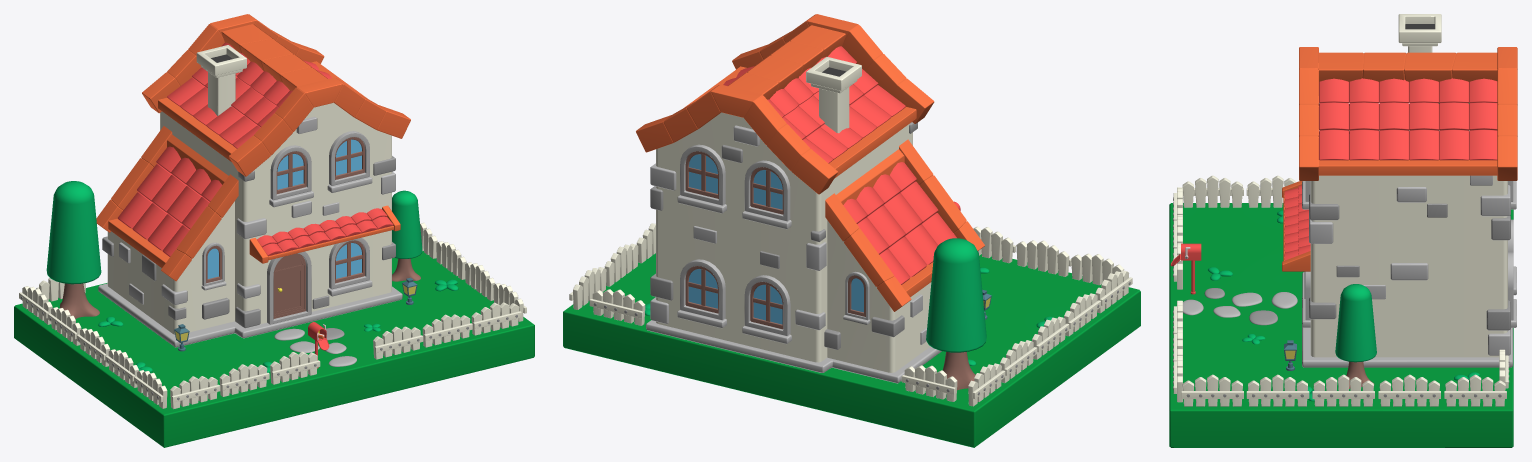
The model's file is Town_Island_7.glb.
3 views of the same model, side by side, from view 1: azimuth 30°, elevation 25°; view 2: azimuth 150°, elevation 25°; view 3: azimuth 270°, elevation 25° (orthographic). The views are drawn at different scales.
Visible parts, largest first — view 1: Town_7_House_1, Town_7_Base_1, Town_7_Tree_3, Town_7_Tree_2, Town_7_Fence_1, Town_7_Fence_17, Town_7_Fence_3, Town_7_Fence_16, Town_7_Fence_18, Town_7_Fence_2, Town_7_Fence_10, Town_7_Fence_6 (+6 smaller); view 2: Town_7_House_1, Town_7_Base_1, Town_7_Tree_3, Town_7_Fence_15, Town_7_Fence_8, Town_7_Fence_17, Town_7_Fence_16, Town_7_Fence_14, Town_7_Fence_18, Town_7_Fence_9, Town_7_Fence_12, Town_7_Fence_13 (+3 smaller); view 3: Town_7_House_1, Town_7_Base_1, Town_7_Tree_2, Town_7_Fence_5, Town_7_Fence_4, Town_7_Fence_7, Town_7_Fence_6, Town_7_Fence_9, Town_7_Fence_10, Town_7_Fence_11, Town_7_Mail_Box_1, Town_7_Fence_3 (+4 smaller).
Part boxes in pixels (x1=…): Town_7_House_1: x1=96, y1=14, x2=410, y2=347; Town_7_Base_1: x1=14, y1=251, x2=534, y2=447; Town_7_Tree_3: x1=46, y1=181, x2=101, y2=318; Town_7_Tree_2: x1=392, y1=190, x2=422, y2=281; Town_7_Fence_1: x1=373, y1=326, x2=423, y2=359; Town_7_Fence_17: x1=219, y1=364, x2=269, y2=396; Town_7_Fence_3: x1=471, y1=302, x2=521, y2=335; Town_7_Fence_16: x1=170, y1=376, x2=220, y2=408; Town_7_Fence_18: x1=270, y1=351, x2=320, y2=384; Town_7_Fence_2: x1=422, y1=314, x2=472, y2=347; Town_7_Fence_10: x1=134, y1=370, x2=167, y2=408; Town_7_Fence_6: x1=436, y1=241, x2=466, y2=279; Town_7_House_1: x1=636, y1=14, x2=984, y2=383; Town_7_Base_1: x1=563, y1=253, x2=1140, y2=447; Town_7_Tree_3: x1=926, y1=238, x2=986, y2=390; Town_7_Fence_15: x1=901, y1=365, x2=957, y2=401; Town_7_Fence_8: x1=589, y1=289, x2=645, y2=325; Town_7_Fence_17: x1=1016, y1=240, x2=1071, y2=276; Town_7_Fence_16: x1=1071, y1=253, x2=1124, y2=285; Town_7_Fence_14: x1=968, y1=363, x2=1005, y2=406; Town_7_Fence_18: x1=973, y1=226, x2=1015, y2=263; Town_7_Fence_9: x1=569, y1=267, x2=606, y2=309; Town_7_Fence_12: x1=1032, y1=316, x2=1069, y2=359; Town_7_Fence_13: x1=1000, y1=340, x2=1037, y2=382; Town_7_House_1: x1=1282, y1=14, x2=1517, y2=367; Town_7_Base_1: x1=1169, y1=203, x2=1513, y2=447; Town_7_Tree_2: x1=1335, y1=284, x2=1376, y2=388; Town_7_Fence_5: x1=1246, y1=374, x2=1309, y2=406; Town_7_Fence_4: x1=1181, y1=374, x2=1243, y2=406; Town_7_Fence_7: x1=1378, y1=374, x2=1440, y2=406; Town_7_Fence_6: x1=1312, y1=374, x2=1374, y2=406; Town_7_Fence_9: x1=1444, y1=374, x2=1506, y2=406; Town_7_Fence_10: x1=1182, y1=175, x2=1243, y2=207; Town_7_Fence_11: x1=1246, y1=175, x2=1295, y2=207; Town_7_Mail_Box_1: x1=1170, y1=243, x2=1201, y2=294; Town_7_Fence_3: x1=1173, y1=355, x2=1182, y2=402.
Size of the model in its own units: 13.24 by 9.26 by 9.37.
40 materials, 40 textured.
